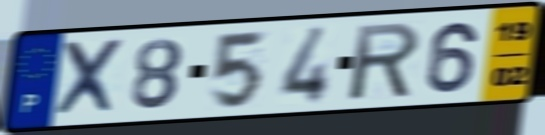4: (275, 23, 333, 106)
5: (205, 27, 270, 111)
6: (424, 18, 481, 96)
8: (129, 36, 186, 112)
R: (349, 19, 423, 103)
X: (52, 36, 127, 120)
